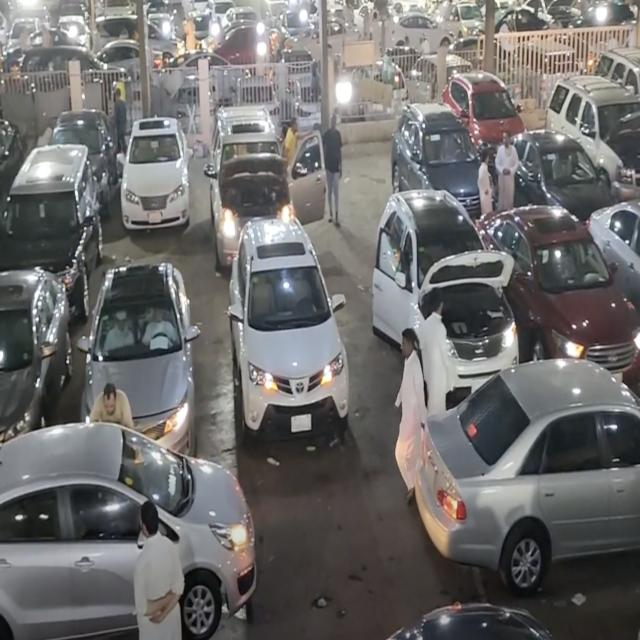license_plate: (290, 412, 312, 438), (428, 461, 436, 490), (148, 211, 162, 226)
